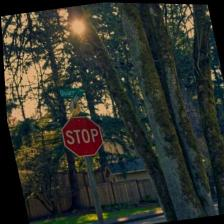Stop: (57, 113, 104, 159)
